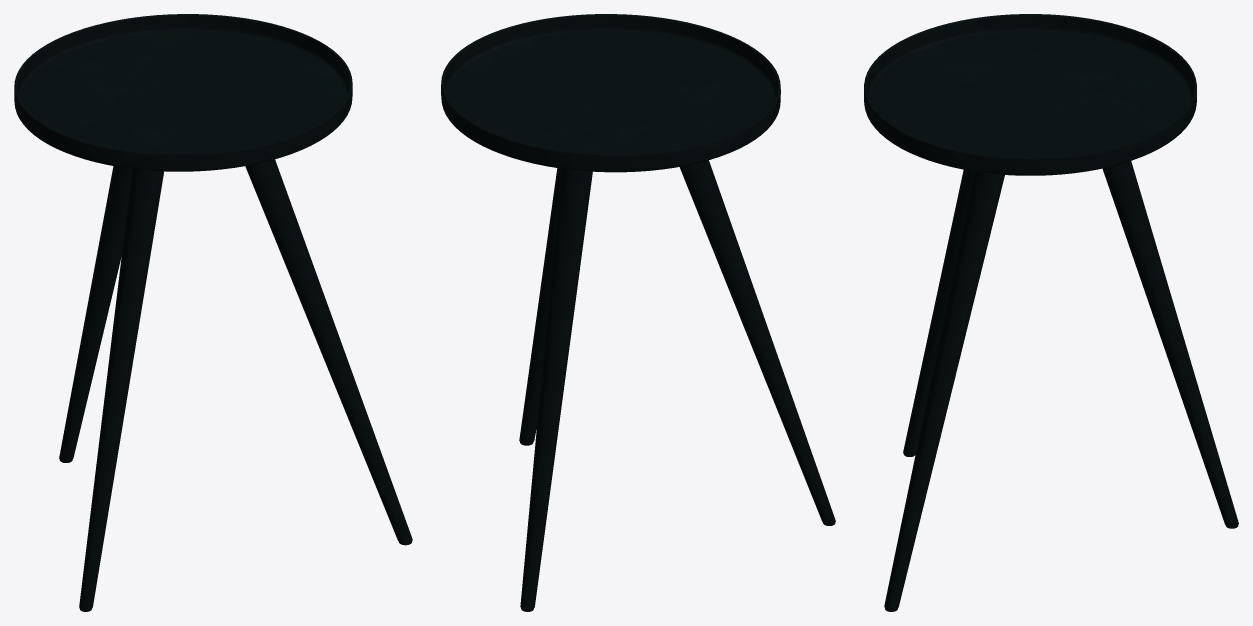
Rendered from abo-B07B7J5XSQ.glb.
3 renders of one model, left to right at view 1: azimuth 30°, elevation 25°; view 2: azimuth 150°, elevation 25°; view 3: azimuth 270°, elevation 25°, orthographic.
Bounding box in the file's own units: 0.415 × 0.548 × 0.415.
1 material, 1 textured.
